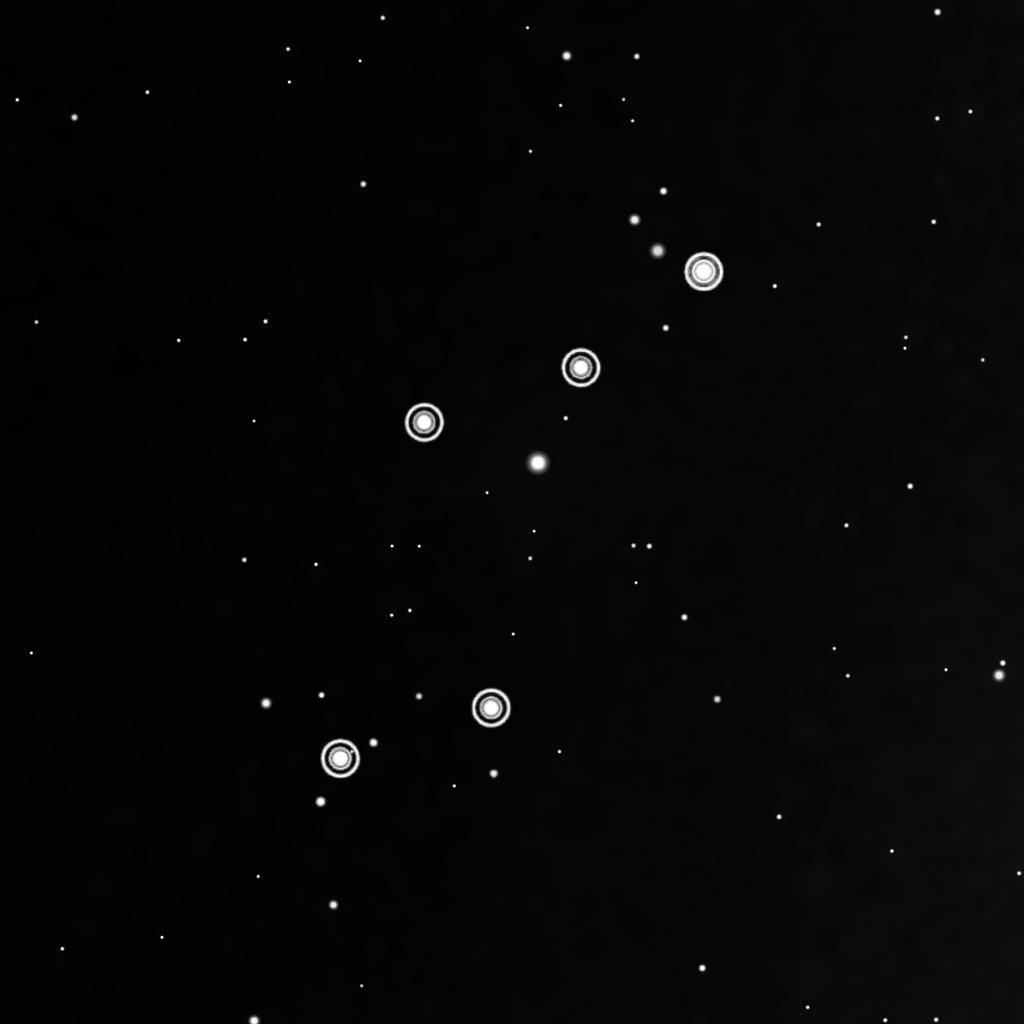lyra: (312, 242, 735, 786)
